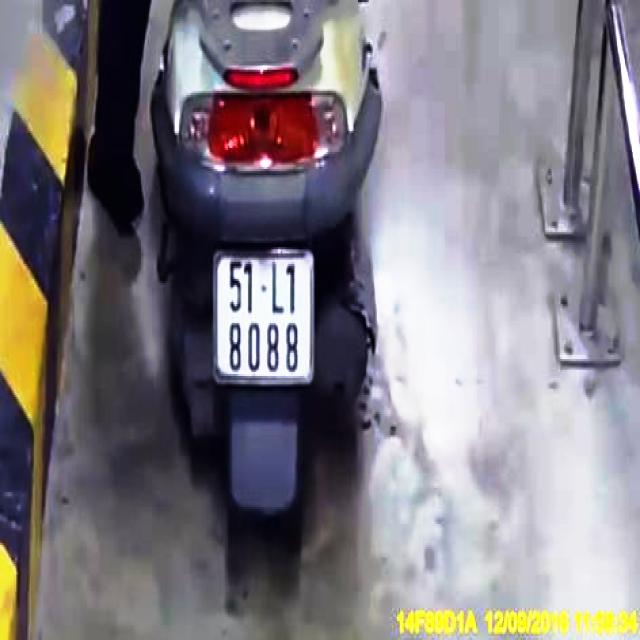license_plate: (216, 252, 314, 381)
